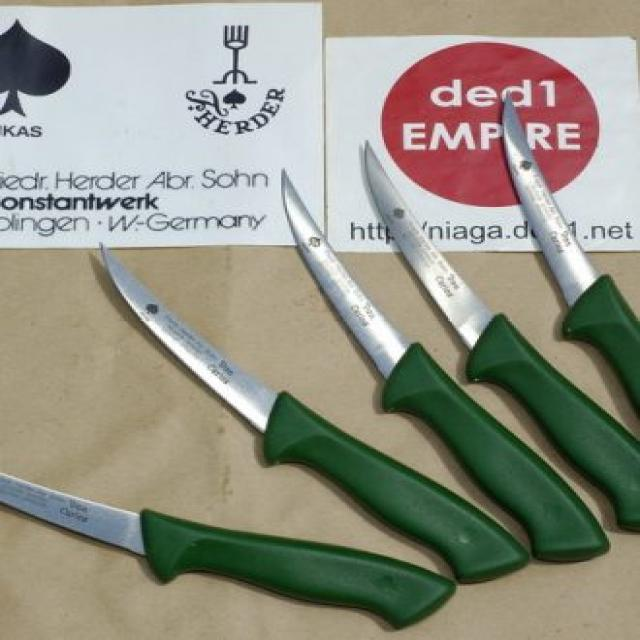Pisau: (278, 170, 626, 575)
